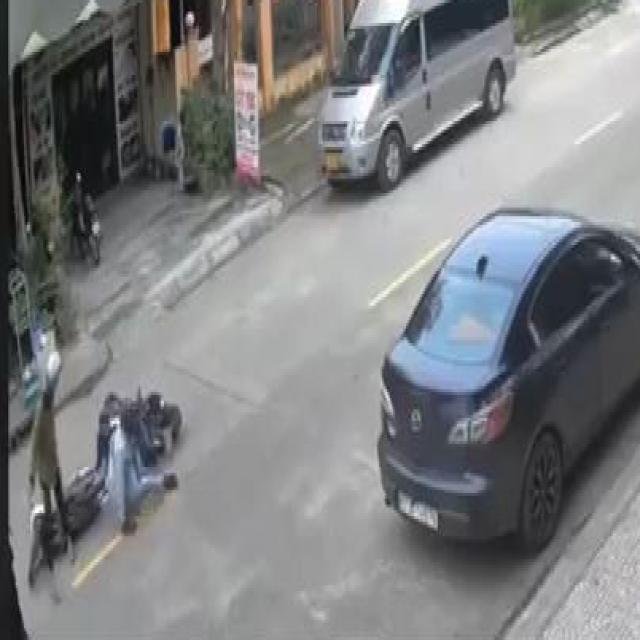accident: (21, 338, 187, 602)
